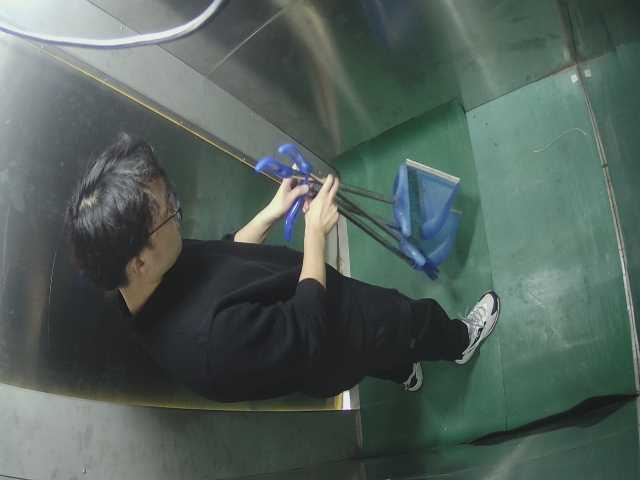broom: (244, 115, 490, 271)
person: (70, 148, 509, 412)
